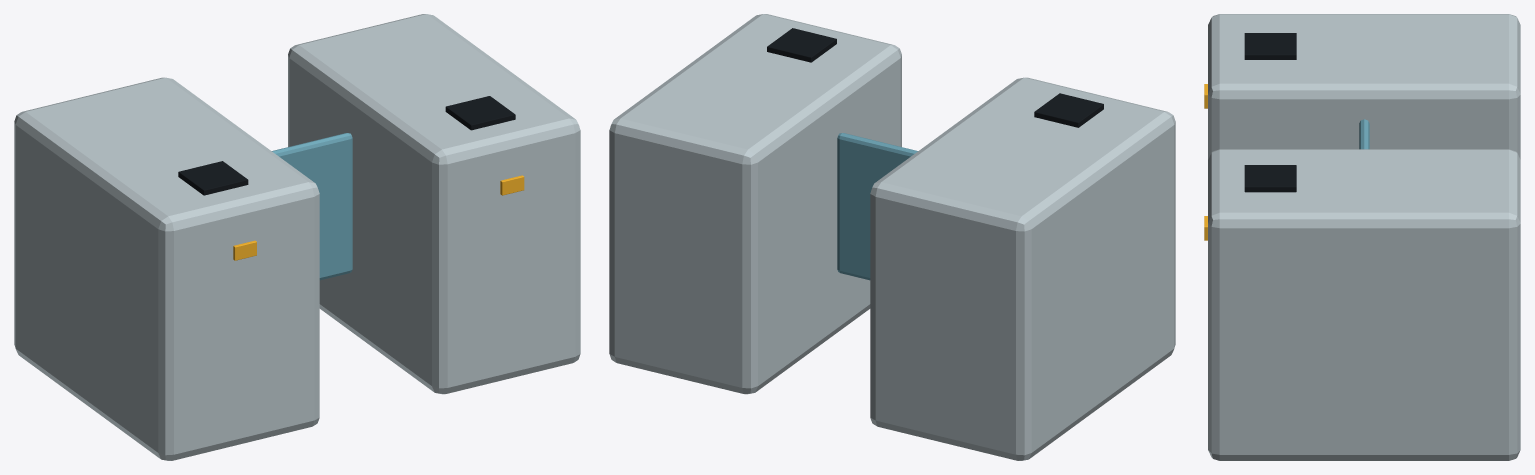
Rendered from edited.glb.
The picture shows the model from 3 angles, left to right: view 1: azimuth 30°, elevation 25°; view 2: azimuth 150°, elevation 25°; view 3: azimuth 270°, elevation 25°; orthographic projection.
Parts seen in each view (by area): view 1: CABINET.001, CABINET, FLAP, READER, READER.001; view 2: CABINET.001, CABINET, FLAP, READER, READER.001; view 3: CABINET, CABINET.001, READER.001, READER.
Part boxes in pixels (box(x1,y1,x2,y2)): CABINET.001: box(14, 77, 319, 460); CABINET: box(288, 14, 580, 394); FLAP: box(272, 133, 352, 280); READER: box(178, 161, 248, 195); READER.001: box(445, 96, 515, 130); CABINET.001: box(870, 77, 1175, 460); CABINET: box(609, 14, 901, 394); FLAP: box(837, 133, 917, 280); READER: box(1034, 93, 1103, 127); READER.001: box(767, 28, 836, 62); CABINET: box(1208, 149, 1520, 460); CABINET.001: box(1208, 14, 1520, 159); READER.001: box(1244, 165, 1296, 192); READER: box(1244, 33, 1296, 59).
Size of the model in its own units: 1.89 by 1.07 by 1.21.
